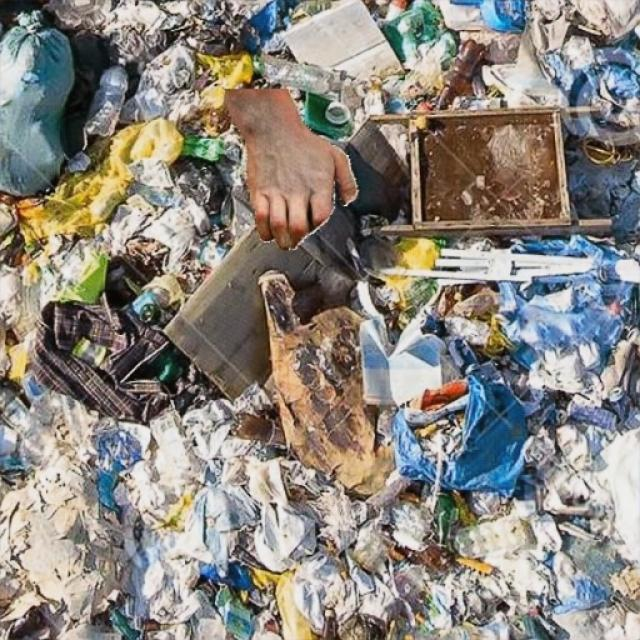Person in Rubble: (224, 89, 358, 249)
